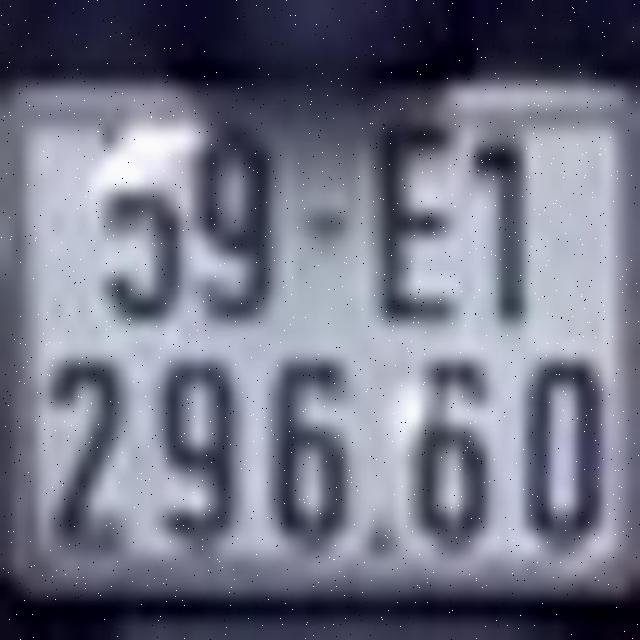0: (525, 353, 605, 549)
1: (474, 131, 532, 325)
2: (46, 354, 131, 558)
5: (97, 110, 186, 323)
6: (273, 352, 350, 552), (416, 352, 492, 554)
9: (193, 120, 275, 325), (156, 352, 237, 547)
E: (374, 120, 463, 326)
